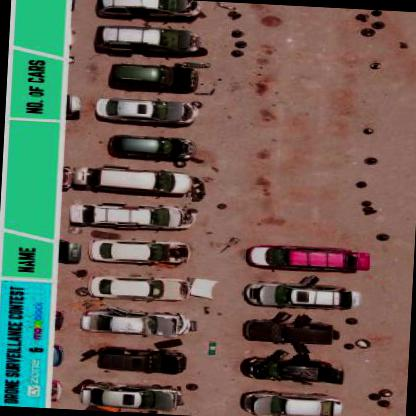car: (241, 348, 345, 385), (68, 199, 193, 229), (242, 280, 361, 311), (76, 378, 184, 412), (80, 304, 194, 336), (244, 243, 365, 273), (108, 59, 212, 92), (94, 22, 204, 52), (87, 236, 189, 265), (96, 96, 200, 124), (92, 344, 186, 373), (94, 0, 205, 24), (240, 389, 342, 415), (244, 317, 335, 346), (106, 132, 196, 160)
